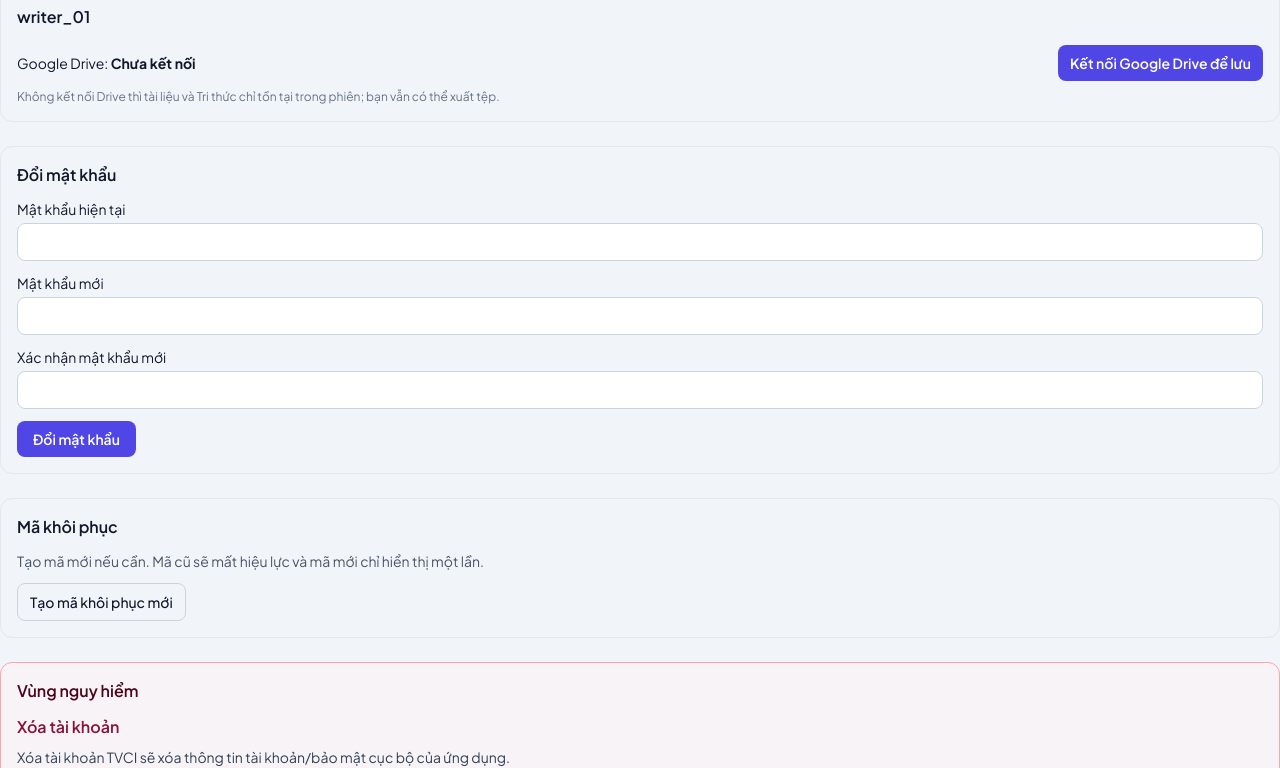
Test: account settings panel › enforces the existing password length and confirmation rules before sending a request
In the password field labelled "Mật khẩu hiện tại": coordinates (640, 242) left=17, top=223, right=1263, bottom=261, type "current-password-fixture"
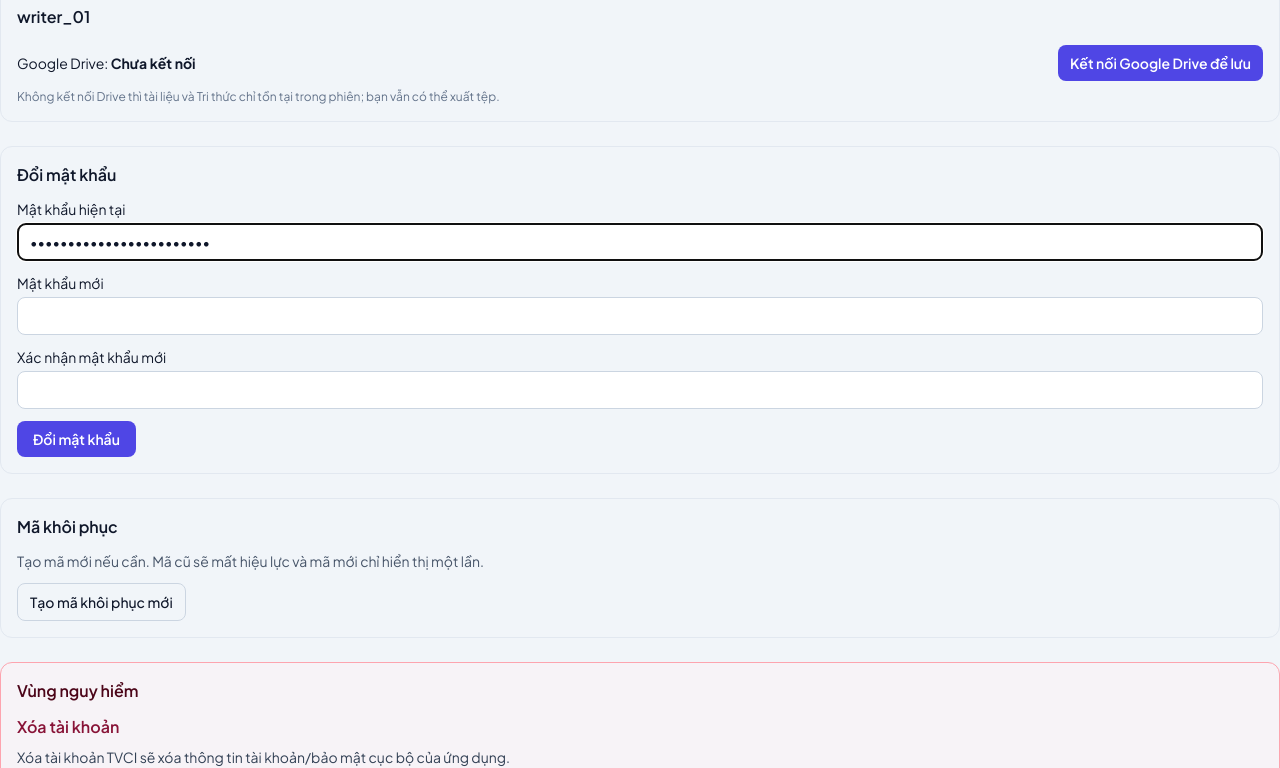
In the password field labelled "Mật khẩu mới": coordinates (640, 316) left=17, top=297, right=1263, bottom=335, type "new-password-fixture"
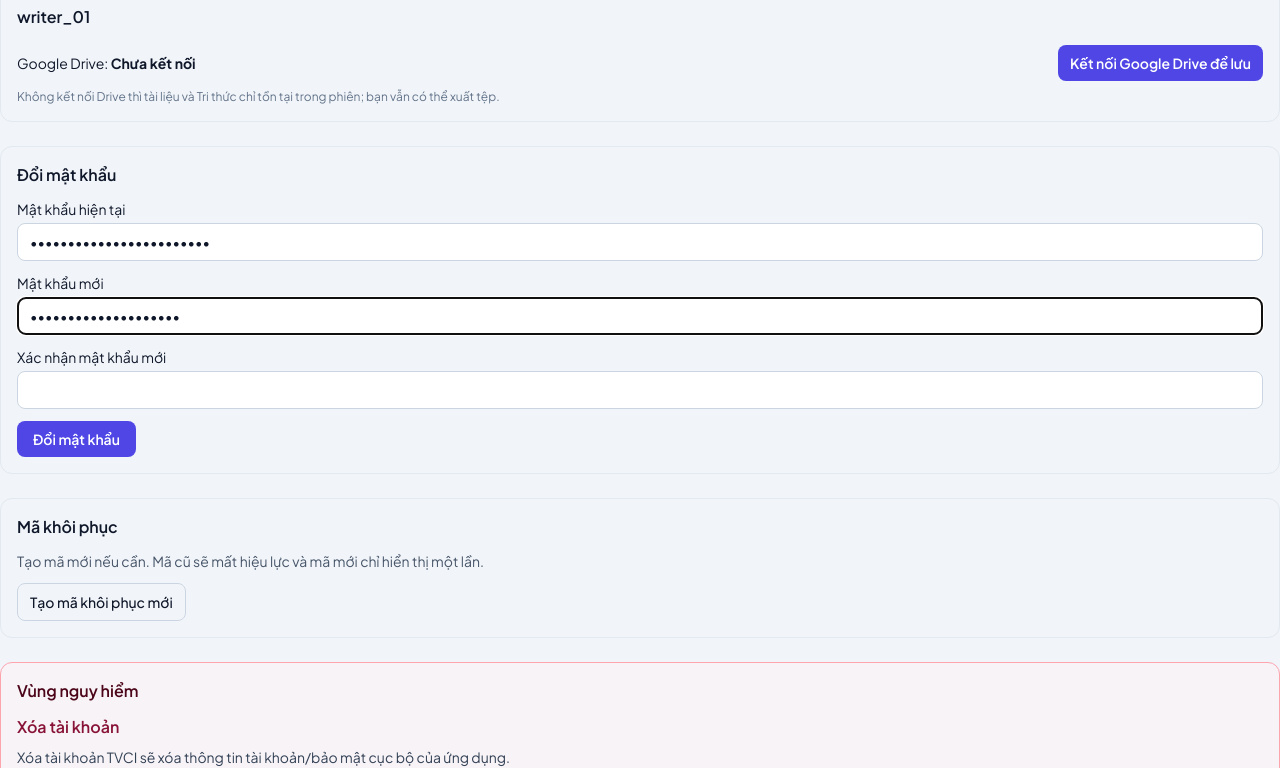
In the password field labelled "Xác nhận mật khẩu mới": coordinates (640, 390) left=17, top=371, right=1263, bottom=409, type "different-password-fixture"
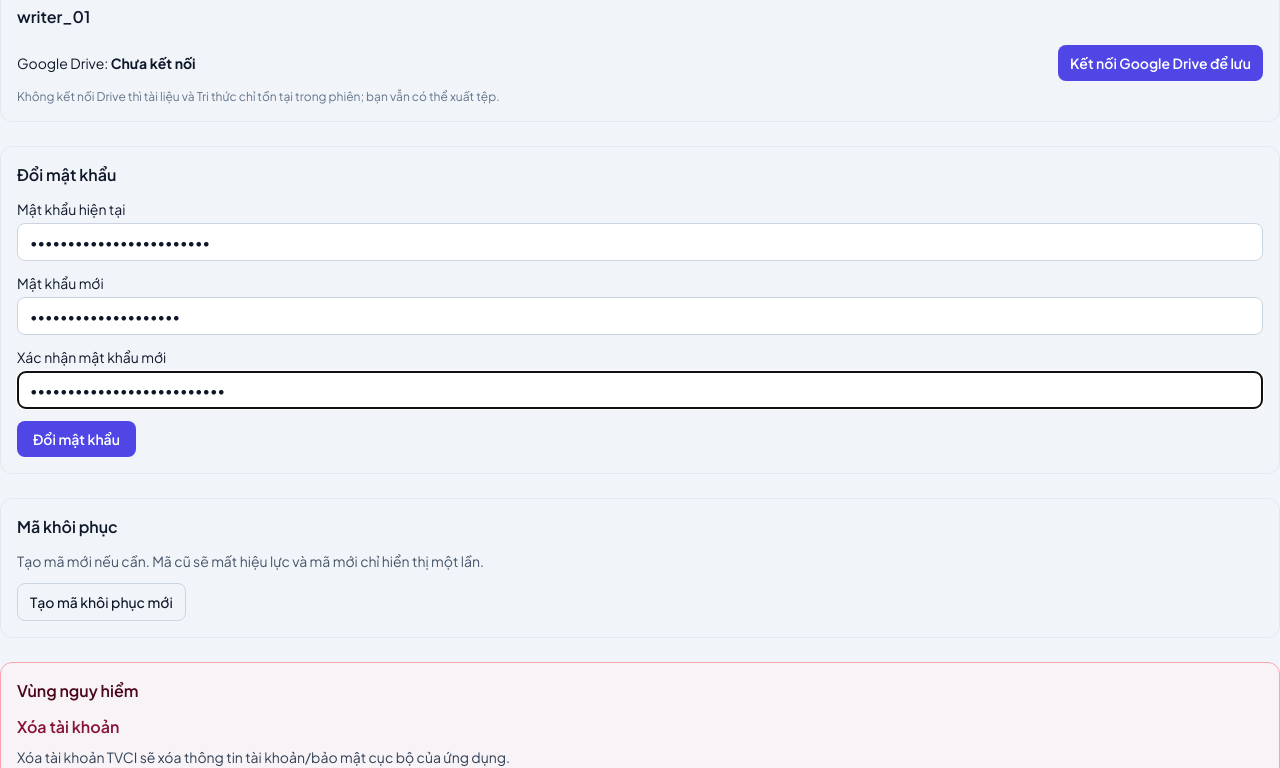
Click the button "Đổi mật khẩu": coordinates (76, 439) left=17, top=421, right=136, bottom=457
(page scrolled)
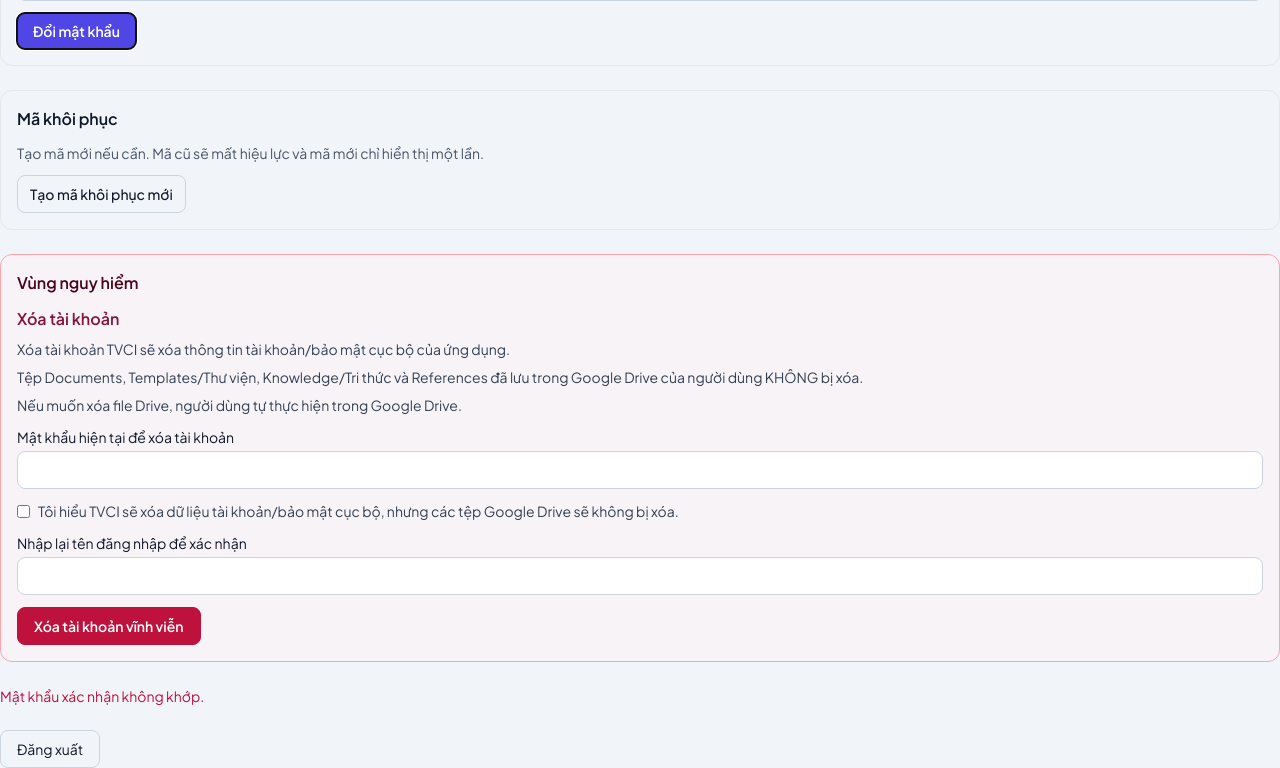
Result: the message reads "Mật khẩu xác nhận không khớp." at left=0, top=687, right=204, bottom=705
